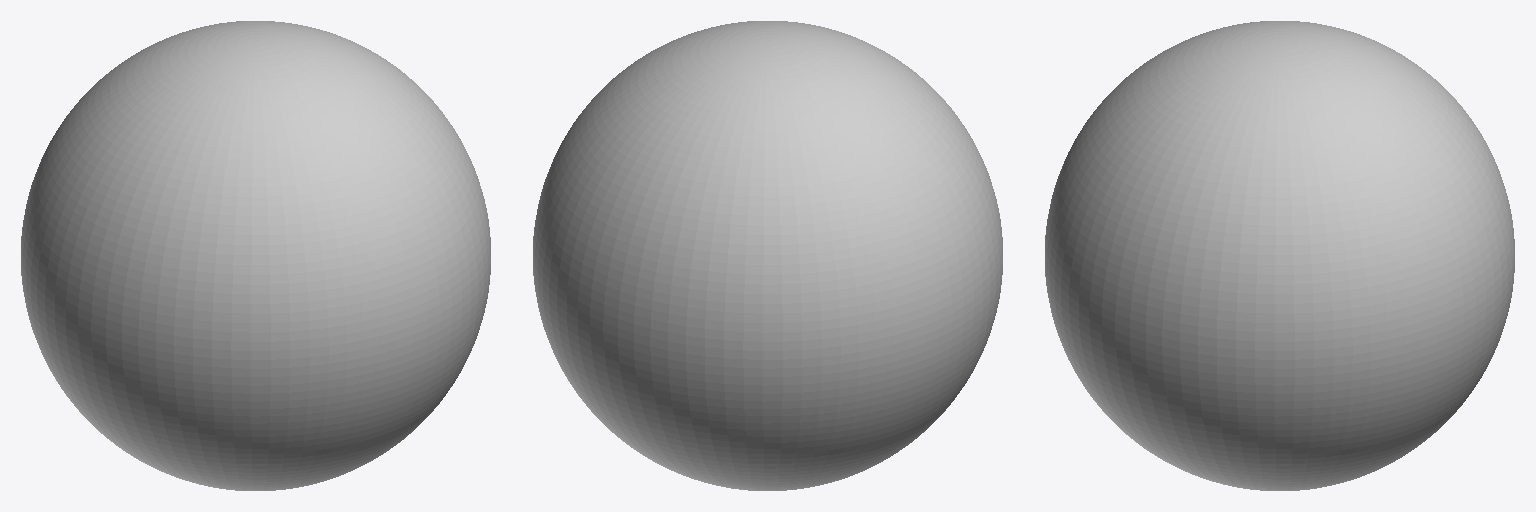
The model's file is globo-white.obj.
3 renders of one model, left to right at view 1: azimuth 30°, elevation 25°; view 2: azimuth 150°, elevation 25°; view 3: azimuth 270°, elevation 25°, orthographic.
Parts seen in each view (by area): view 1: Sphere; view 2: Sphere; view 3: Sphere.
Part boxes in pixels (left/top/right/bottom): Sphere: left=21, top=21, right=490, bottom=490; Sphere: left=533, top=21, right=1002, bottom=490; Sphere: left=1045, top=21, right=1514, bottom=490.
Bounding box in the file's own units: 57.97 × 58 × 57.96.